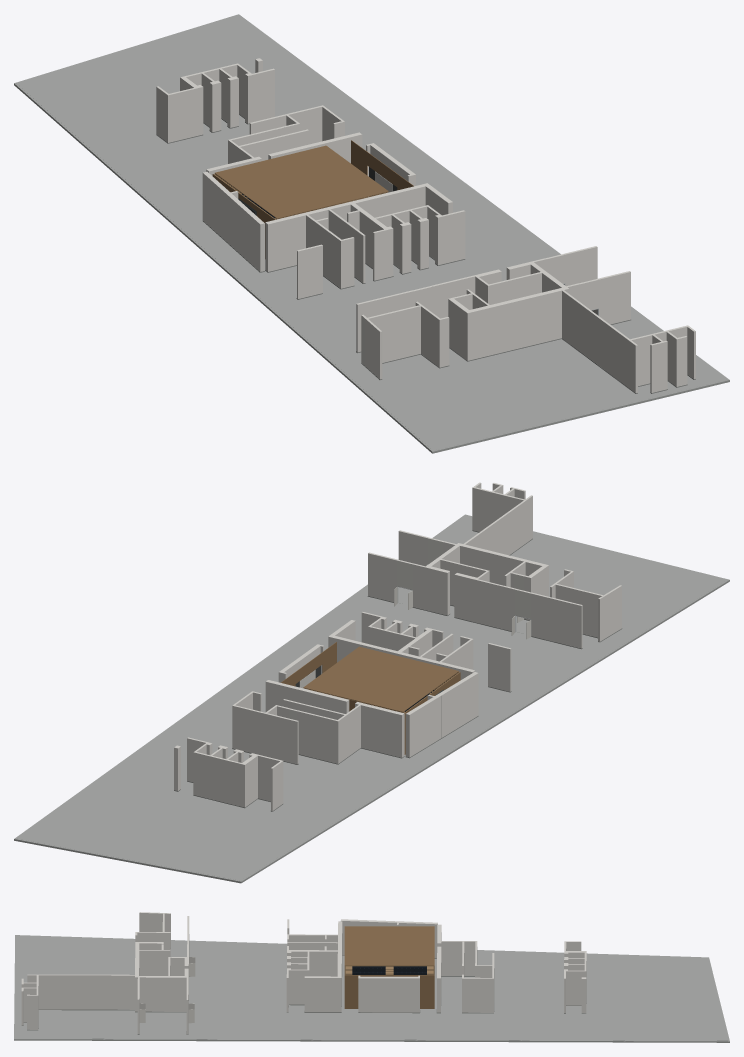
The model's file is B1_floor_0.glb.
3 views of the same model, one above another, from view 1: azimuth 30°, elevation 25°; view 2: azimuth 150°, elevation 25°; view 3: azimuth 270°, elevation 25° (orthographic). The views are drawn at different scales.
Visible parts, largest first — view 1: B1 P0 interni, B1 P0 B1-P0-Z002; view 2: B1 P0 interni, B1 P0 B1-P0-Z002; view 3: B1 P0 B1-P0-Z002, B1 P0 interni.
Boxes of the visible parts, bbox=[...] form: B1 P0 interni: bbox=[14, 14, 729, 453]; B1 P0 B1-P0-Z002: bbox=[16, 15, 726, 450]; B1 P0 interni: bbox=[14, 482, 729, 883]; B1 P0 B1-P0-Z002: bbox=[17, 515, 726, 880]; B1 P0 B1-P0-Z002: bbox=[15, 935, 728, 1040]; B1 P0 interni: bbox=[14, 912, 729, 1042].
Bounding box in the file's own units: 35.86 × 5.69 × 102.
